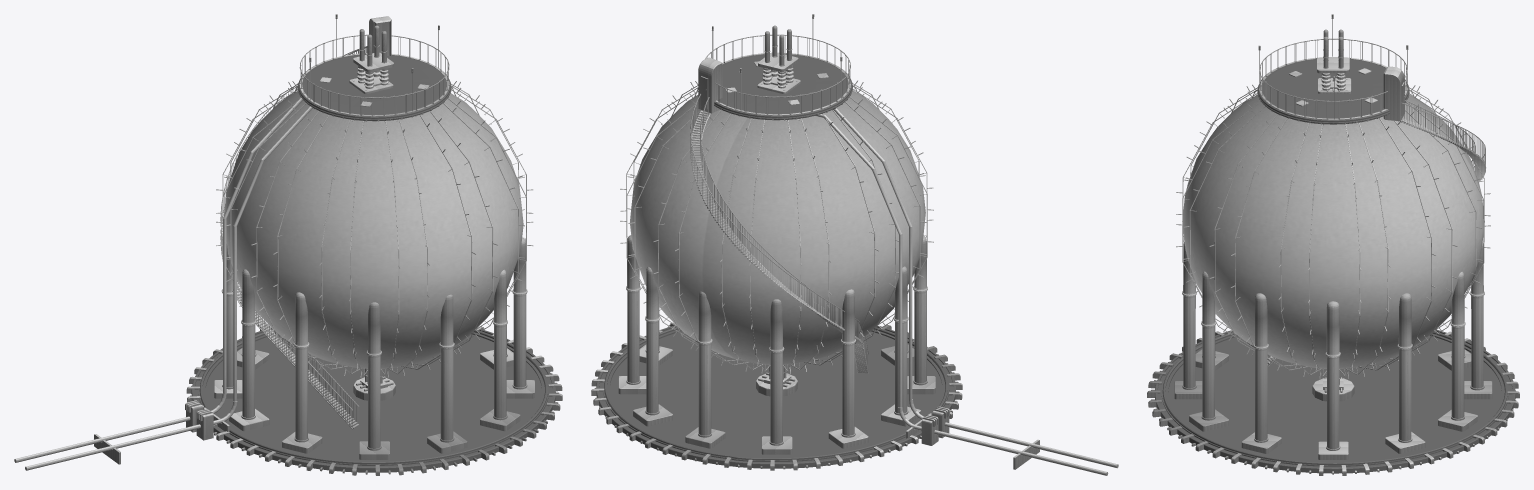
File: guanziqiuxing.fbx
3 views of the same model, side by side, from view 1: azimuth 30°, elevation 25°; view 2: azimuth 150°, elevation 25°; view 3: azimuth 270°, elevation 25° (orthographic).
Visible parts, largest first — view 1: Sphere001, 对象001, 对象002, 对象003; view 2: Sphere001, 对象001, 对象002, 对象003; view 3: Sphere001, 对象001, 对象002, 对象003.
Part boxes in pixels (box(x1,y1,x2,y2)): Sphere001: box(224, 91, 523, 368); 对象001: box(14, 14, 562, 475); 对象002: box(191, 328, 555, 472); 对象003: box(297, 53, 451, 121); Sphere001: box(630, 90, 925, 364); 对象001: box(591, 14, 1118, 475); 对象002: box(596, 325, 955, 468); 对象003: box(714, 53, 852, 120); Sphere001: box(1182, 94, 1484, 368); 对象001: box(1147, 14, 1519, 475); 对象002: box(1155, 329, 1515, 473); 对象003: box(1257, 58, 1409, 124).
Size of the model in its own units: 34.25 by 23.59 by 21.9.
2 materials, 1 textured.
